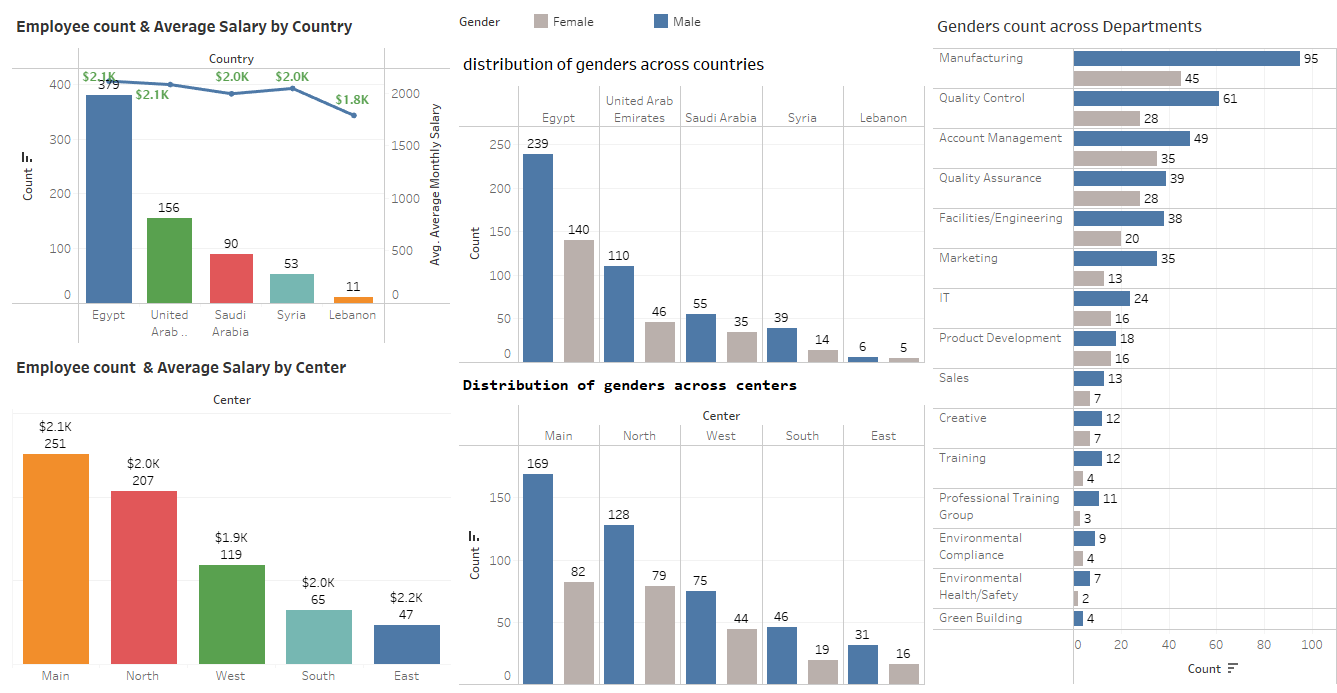

The page's visual inventory and layout, read from the dashboard file:
{"tool":"tableau","page":{"name":"Dashboard 4","canvas":[1000,1000],"units":"permille","ordinal":3},"visuals":[{"type":"worksheet","title":"Sheet 10","mark":"Bar","rows":["count"],"cols":["country"],"box":[6.9,13.5,326.4,486.5]},{"type":"legend","title":"Sheet 11","param":"[federated.06fpr6b1bu1uhe148iyy11g8si1r].[none:gender:nk]","box":[333.3,13.5,346.3,54]},{"type":"worksheet","title":"Sheet 11","mark":"Automatic","rows":["department","gender"],"cols":["count"],"box":[679.6,13.5,313.4,973]},{"type":"worksheet","title":"Sheet 12","mark":"Automatic","rows":["count"],"cols":["country","gender"],"box":[333.3,67.5,346.3,459.5]},{"type":"worksheet","title":"Sheet 10 (2)","mark":"Bar","rows":["count"],"cols":["center"],"box":[6.9,500,326.4,486.5]},{"type":"worksheet","title":"Sheet 14","mark":"Automatic","rows":["count"],"cols":["center","gender"],"box":[333.3,526.9,346.3,459.6]}]}

Visuals, with their boxes on the dashboard's canvas, which has no fixed pixel size, in thousandths of its width and height (x1, y1, x2, y2). These are canvas units, not pixel positions in the 1337x693 screenshot, which may show the page scaled, cropped or inside an application window:
"Sheet 10" worksheet (Bar marks): (7, 14, 333, 500)
"Sheet 11" legend: (333, 14, 680, 68)
"Sheet 11" worksheet: (680, 14, 993, 986)
"Sheet 12" worksheet: (333, 68, 680, 527)
"Sheet 10 (2)" worksheet (Bar marks): (7, 500, 333, 986)
"Sheet 14" worksheet: (333, 527, 680, 986)
